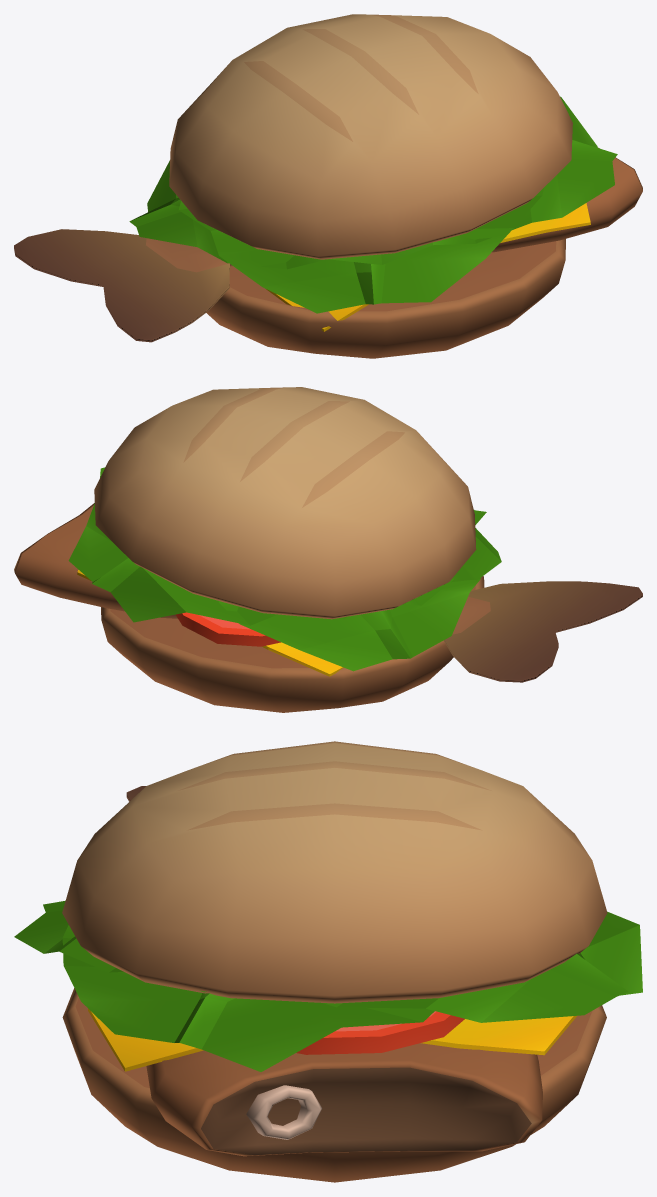
Rendered from Product Fish Burger.fbx.
The picture shows the model from 3 angles, top to bottom: view 1: azimuth 30°, elevation 25°; view 2: azimuth 150°, elevation 25°; view 3: azimuth 270°, elevation 25°; orthographic projection. The views are drawn at different scales.
Parts seen in each view (by area): view 1: Product_Fish_Burger; view 2: Product_Fish_Burger; view 3: Product_Fish_Burger.
Part boxes in pixels (<box>): Product_Fish_Burger: <box>14,14,642,358</box>; Product_Fish_Burger: <box>14,387,642,712</box>; Product_Fish_Burger: <box>14,741,642,1182</box>.
Size of the model in its own units: 194 by 85.41 by 147.
